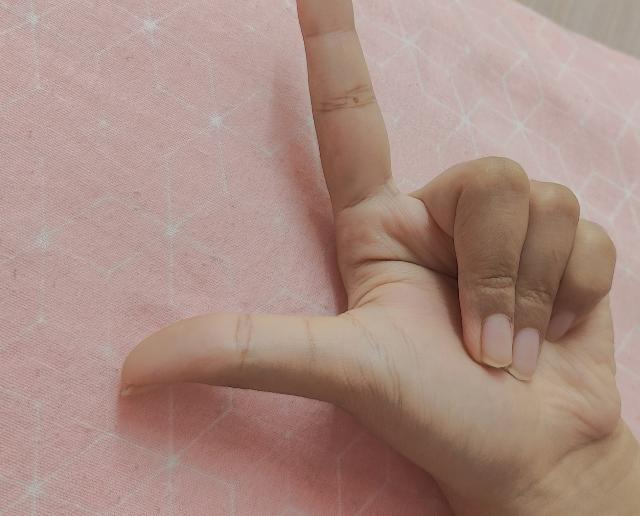chandrakala: (116, 0, 640, 516)
